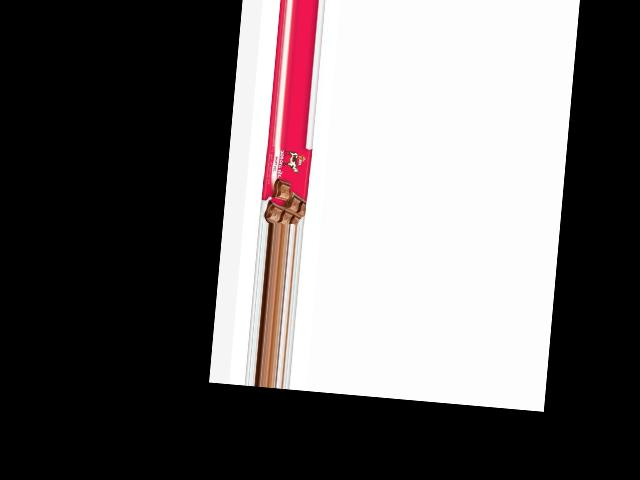chocolate: (258, 143, 311, 225)
